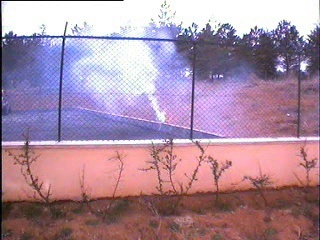smoke: (68, 21, 191, 127)
